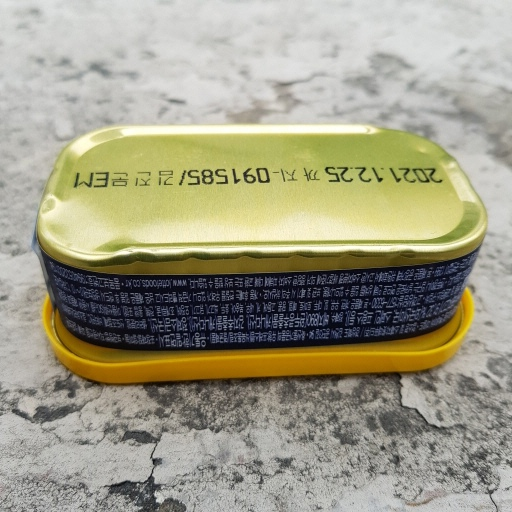Metal_2: (34, 116, 486, 380)
